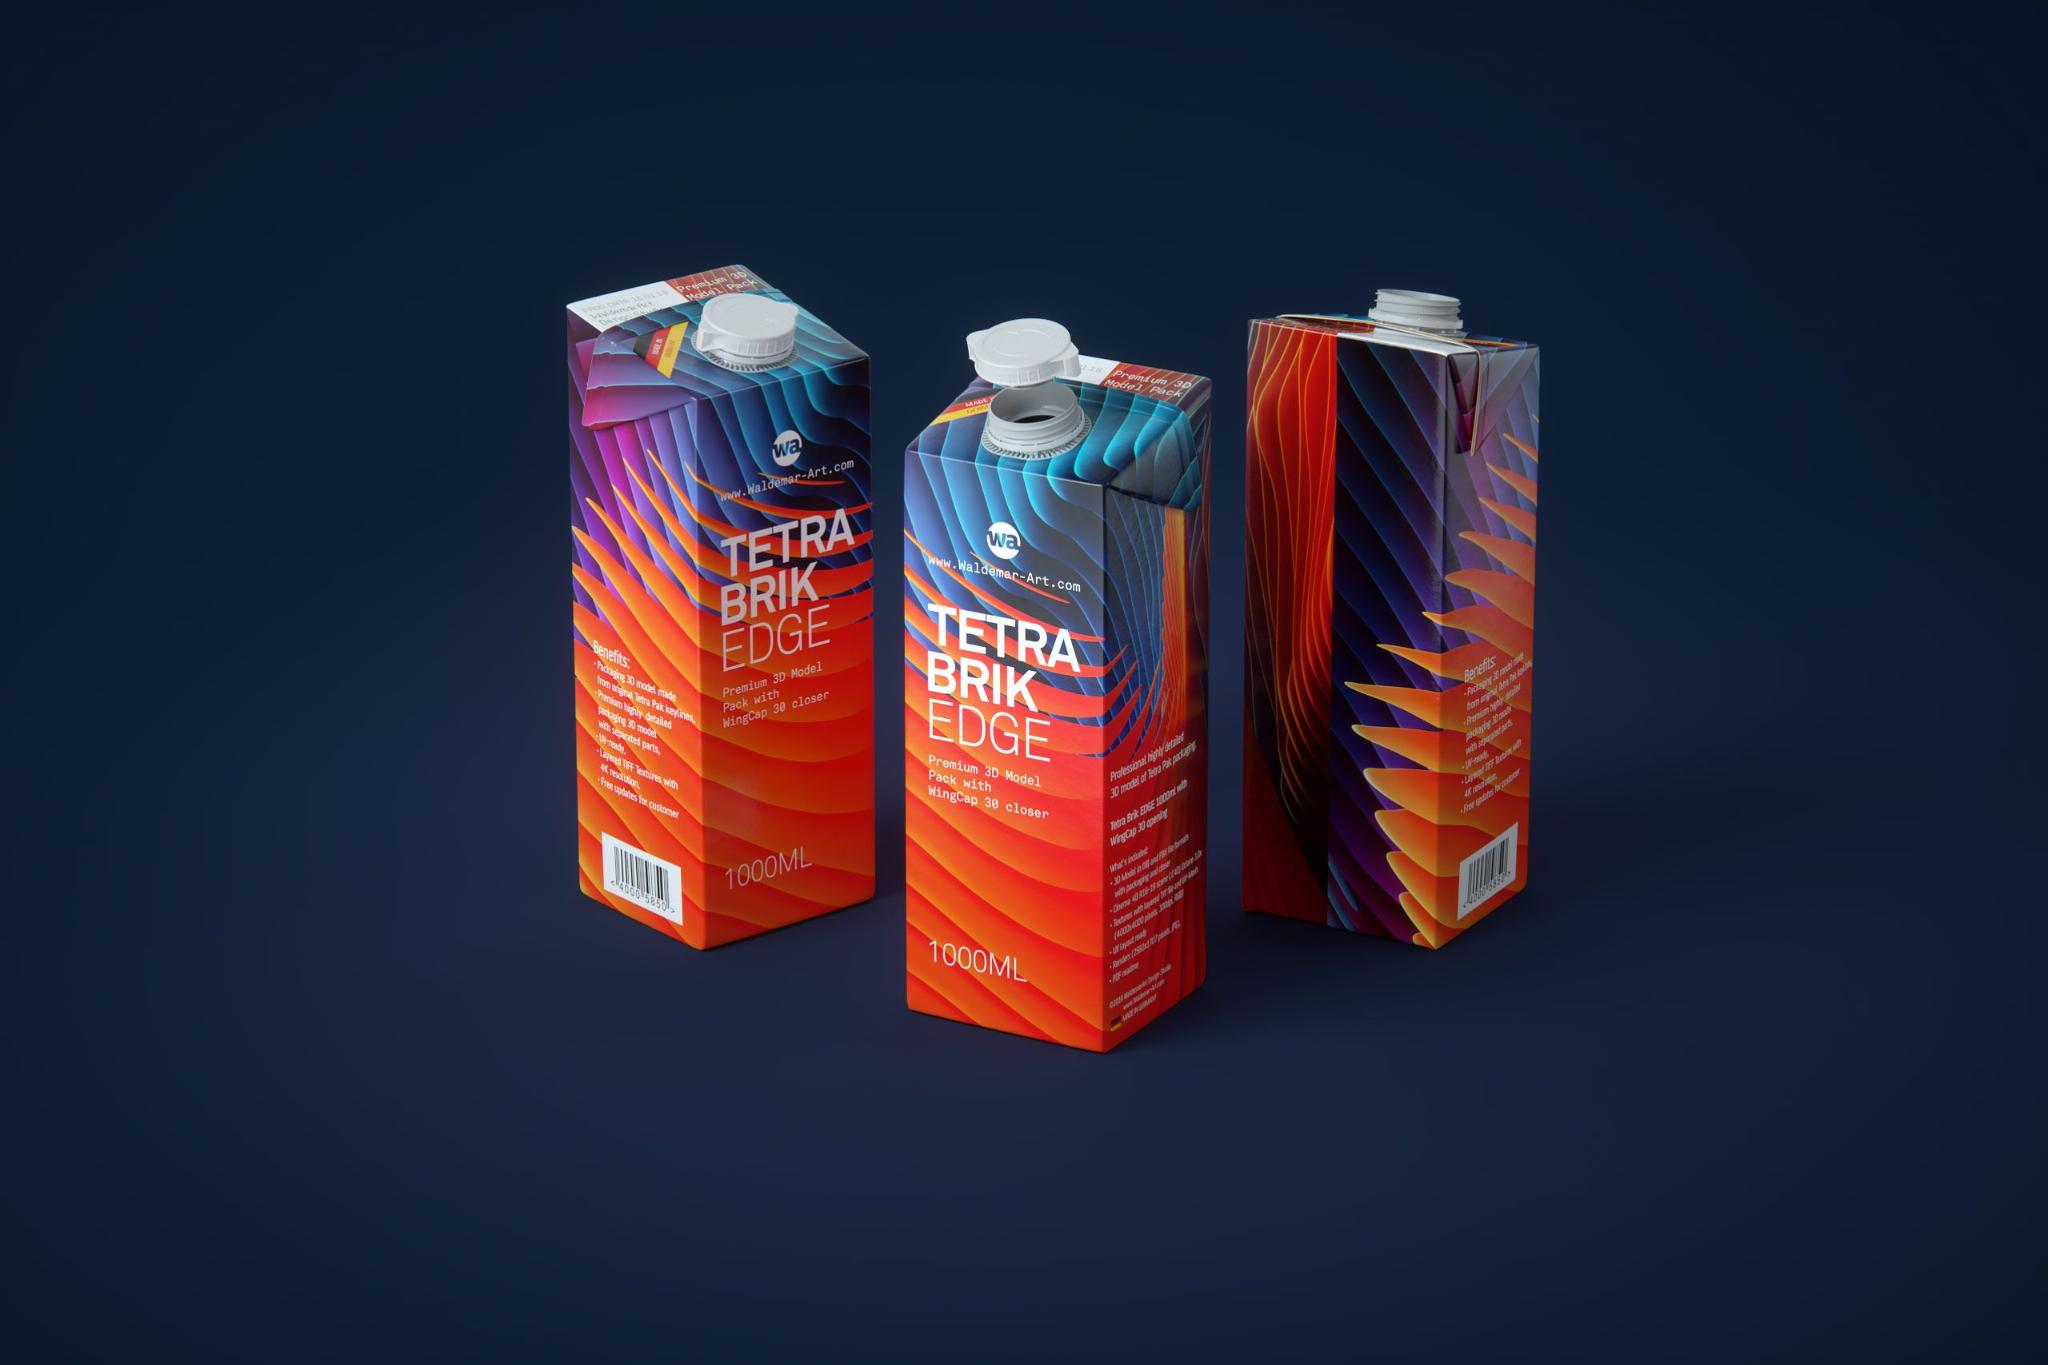cardboard: (904, 312, 1229, 1051), (560, 253, 883, 943), (1238, 277, 1559, 966)
